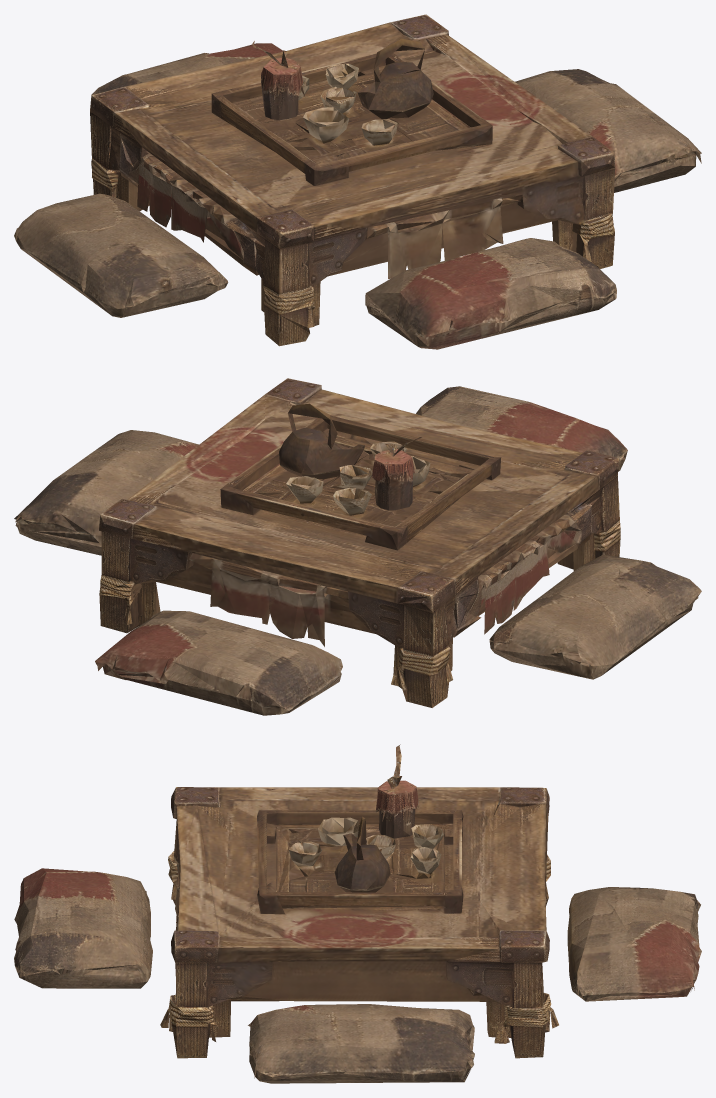
The model's file is tea-table.glb.
3 views of the same model, one above another, from view 1: azimuth 30°, elevation 25°; view 2: azimuth 150°, elevation 25°; view 3: azimuth 270°, elevation 25° (orthographic). The views are drawn at different scales.
Visible parts, largest first — view 1: output_unwrapped; view 2: output_unwrapped; view 3: output_unwrapped.
Part boxes in pixels (left/top/right/bottom): output_unwrapped: left=14, top=14, right=701, bottom=349; output_unwrapped: left=14, top=378, right=701, bottom=715; output_unwrapped: left=14, top=744, right=701, bottom=1083.
Size of the model in its own units: 1.22 by 0.4 by 1.26.
1 material, 1 textured.
